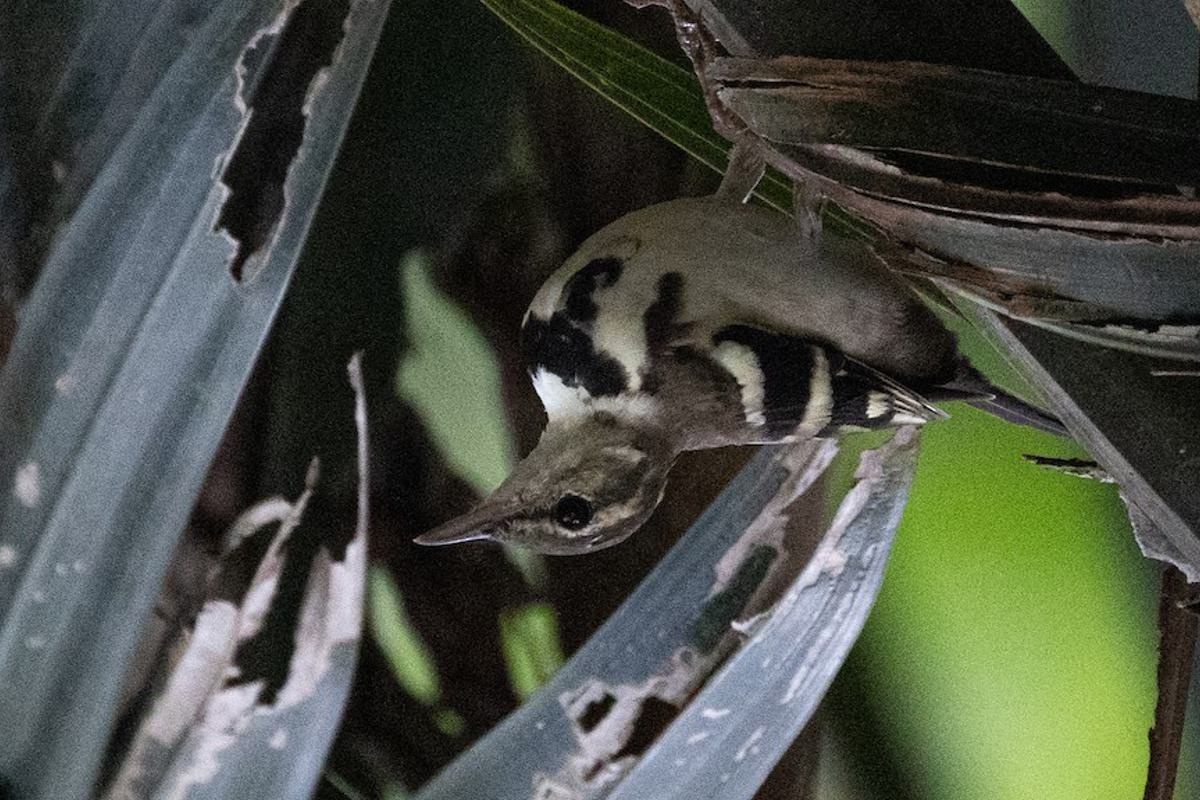wagtail: (411, 144, 997, 568)
